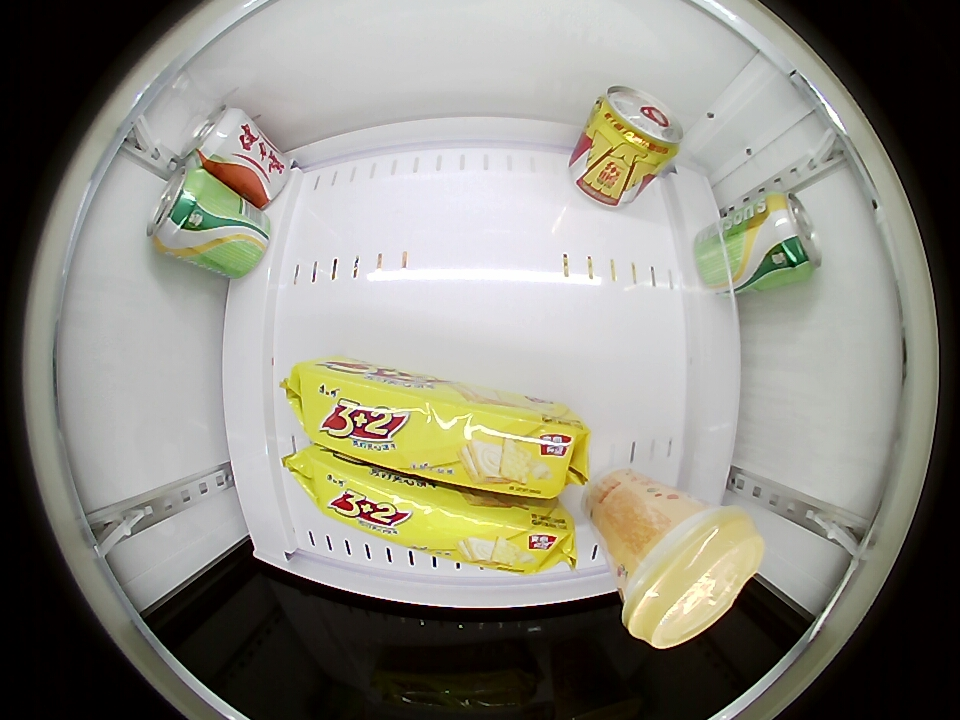3+2-2: (297, 360, 575, 495), (304, 457, 573, 575)
dongpeng: (593, 86, 683, 161)
jianlibao: (180, 105, 247, 170)
quchenshixiangcao: (147, 166, 208, 256), (762, 191, 821, 280)
youlemei: (620, 501, 764, 649)
